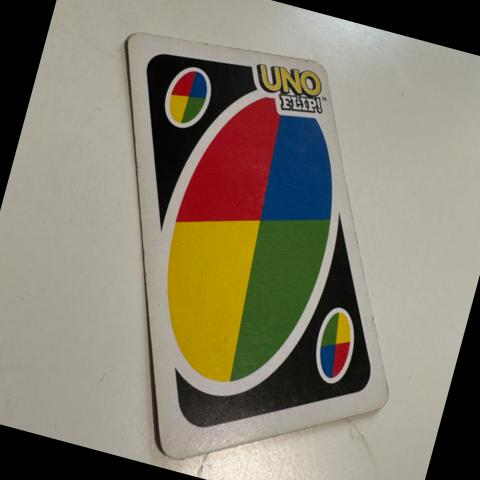7_yellow: (155, 65, 220, 131), (314, 301, 362, 387)
